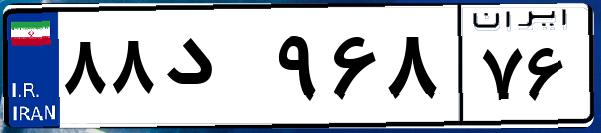6: (330, 28, 385, 110), (525, 38, 570, 115)
7: (475, 38, 525, 113)
8: (385, 28, 445, 110), (57, 26, 110, 100), (110, 28, 158, 98)
9: (270, 28, 330, 110)
د: (158, 20, 270, 120)
